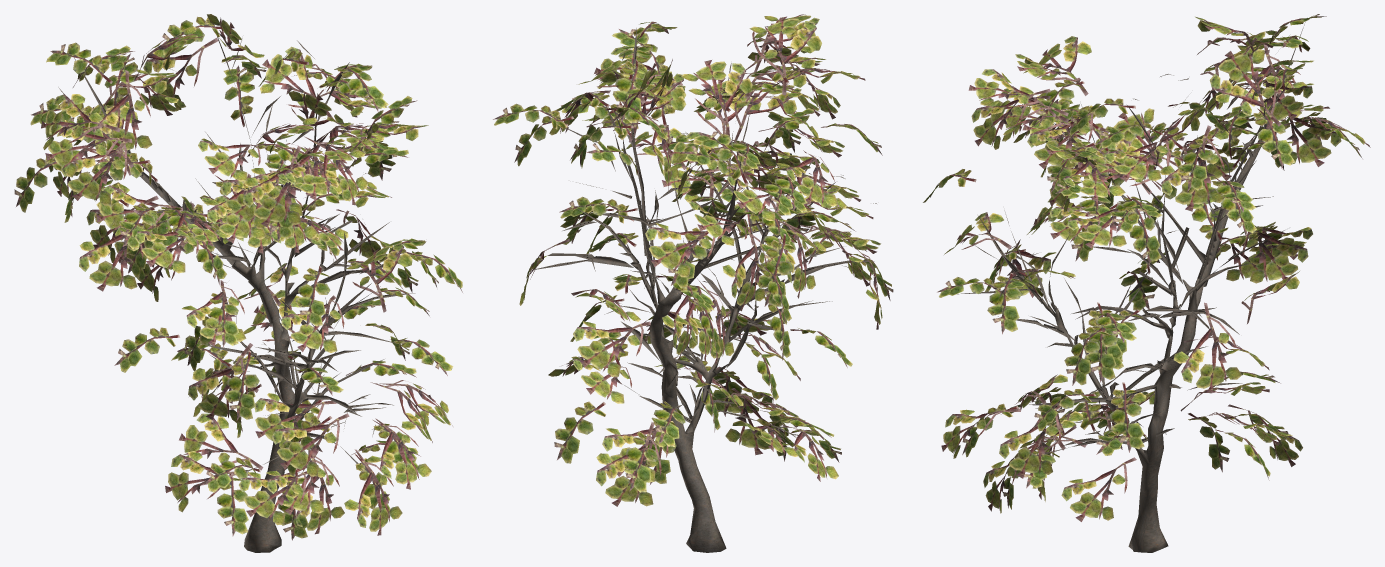
The model's file is tree_leafy.glb.
The picture shows the model from 3 angles, left to right: view 1: azimuth 30°, elevation 25°; view 2: azimuth 150°, elevation 25°; view 3: azimuth 270°, elevation 25°; orthographic projection. The views are drawn at different scales.
Visible parts, largest first — view 1: Broadleaf Dense Tree Adult; view 2: Broadleaf Dense Tree Adult; view 3: Broadleaf Dense Tree Adult.
Part boxes in pixels (<box>): Broadleaf Dense Tree Adult: <box>14,14,462,552</box>; Broadleaf Dense Tree Adult: <box>493,14,893,552</box>; Broadleaf Dense Tree Adult: <box>923,14,1370,552</box>.
Size of the model in its own units: 5.38 by 7.47 by 5.98.
Materials: 2 (2 with a texture image).
